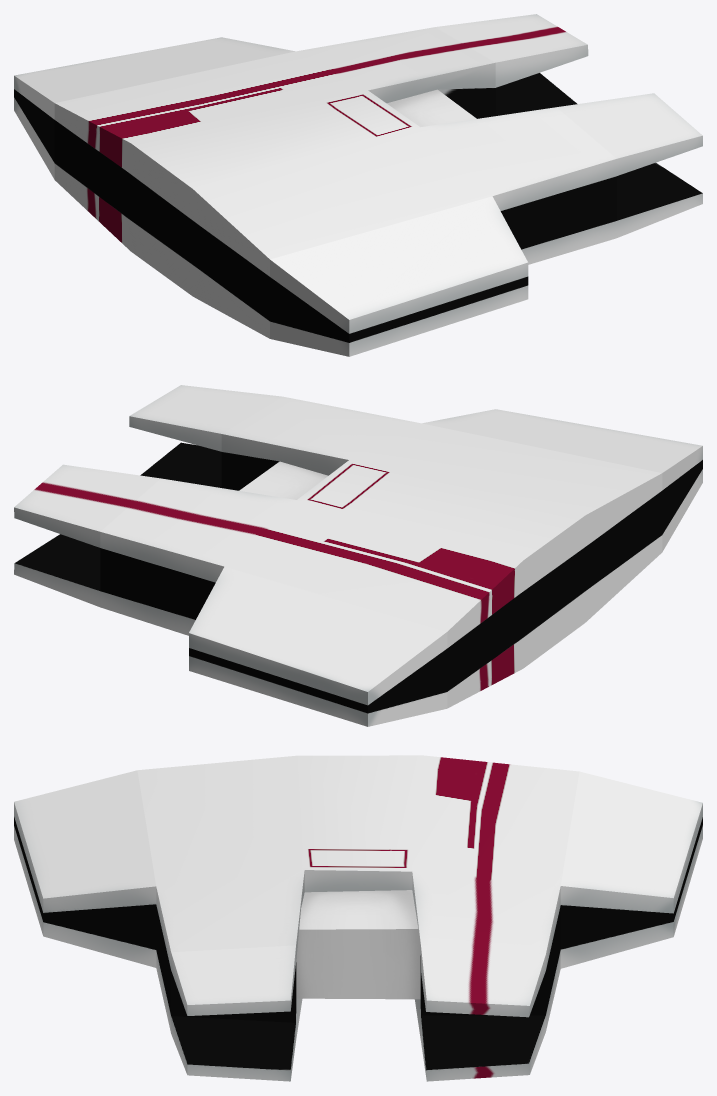
Rendered from astronautDoorUpper 1.fbx.
3 renders of one model, top to bottom at view 1: azimuth 30°, elevation 25°; view 2: azimuth 150°, elevation 25°; view 3: azimuth 270°, elevation 25°, orthographic. The views are drawn at different scales.
Parts seen in each view (by area): view 1: polySurface1; view 2: polySurface1; view 3: polySurface1.
Part boxes in pixels (x1,y1,x2,y2): polySurface1: [14, 14, 702, 356]; polySurface1: [14, 385, 702, 726]; polySurface1: [14, 755, 702, 1081].
Size of the model in its own units: 6.96 by 1.62 by 8.81.
Materials: 1 (1 with a texture image).
